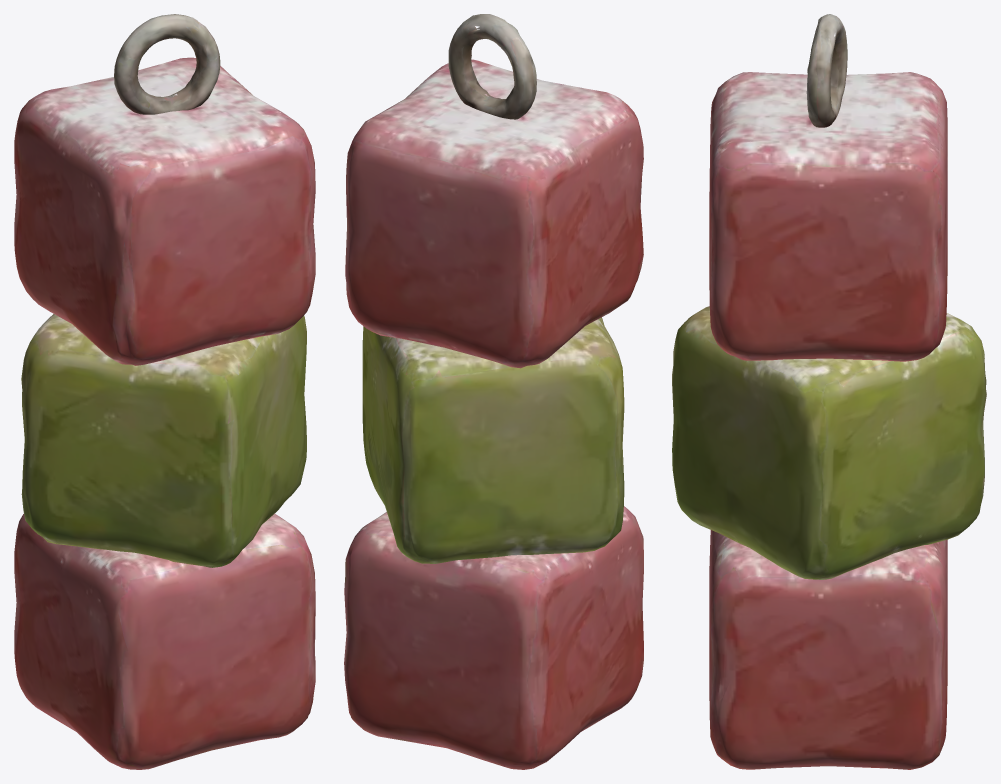
Rendered from sus_lokum.glb.
3 renders of one model, left to right at view 1: azimuth 30°, elevation 25°; view 2: azimuth 150°, elevation 25°; view 3: azimuth 270°, elevation 25°, orthographic.
Parts seen in each view (by area): view 1: sus; view 2: sus; view 3: sus.
Part boxes in pixels (box(x1,y1,x2,y2)): sus: box(14, 14, 315, 769); sus: box(344, 14, 643, 769); sus: box(672, 14, 986, 769).
Size of the model in its own units: 0.0152 by 0.038 by 0.0152.
1 material, 1 textured.
